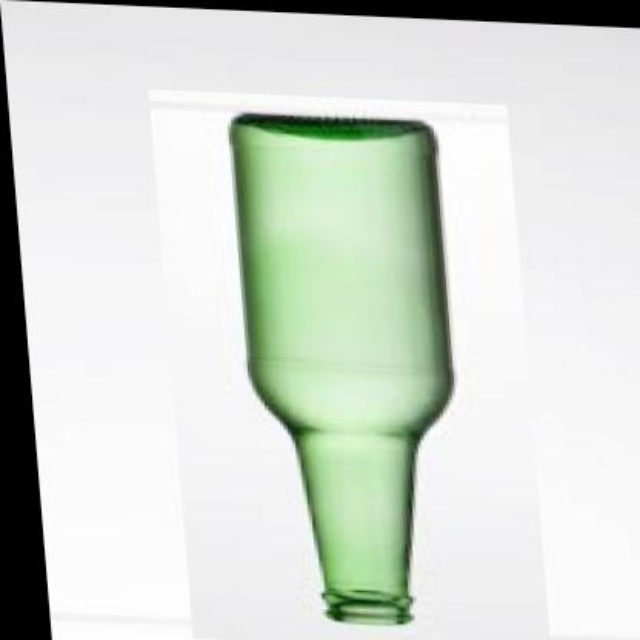trash: (231, 114, 451, 623)
